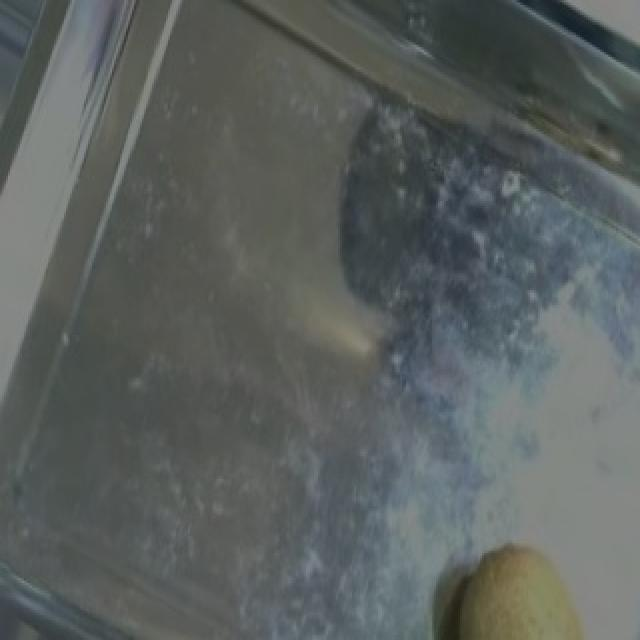Fruit: (430, 523, 620, 640)
